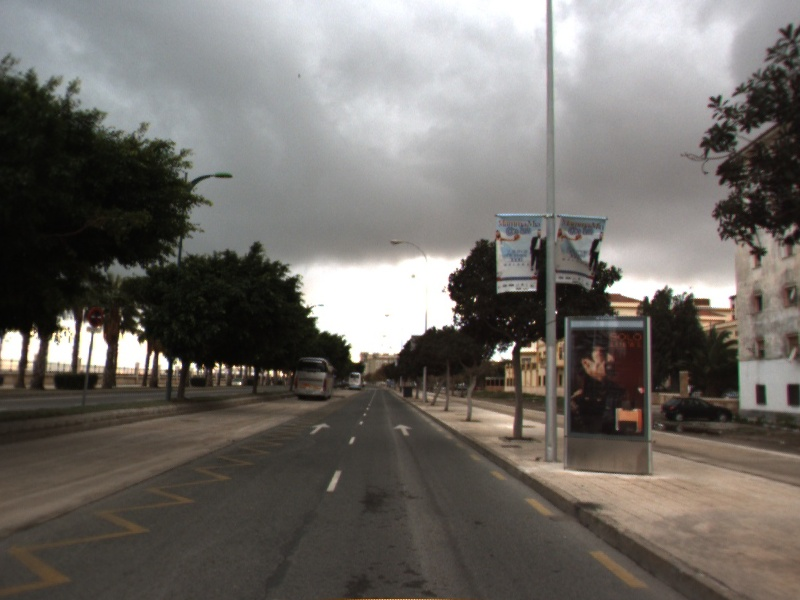STRAIGHT: (307, 421, 333, 437), (391, 422, 415, 438)
